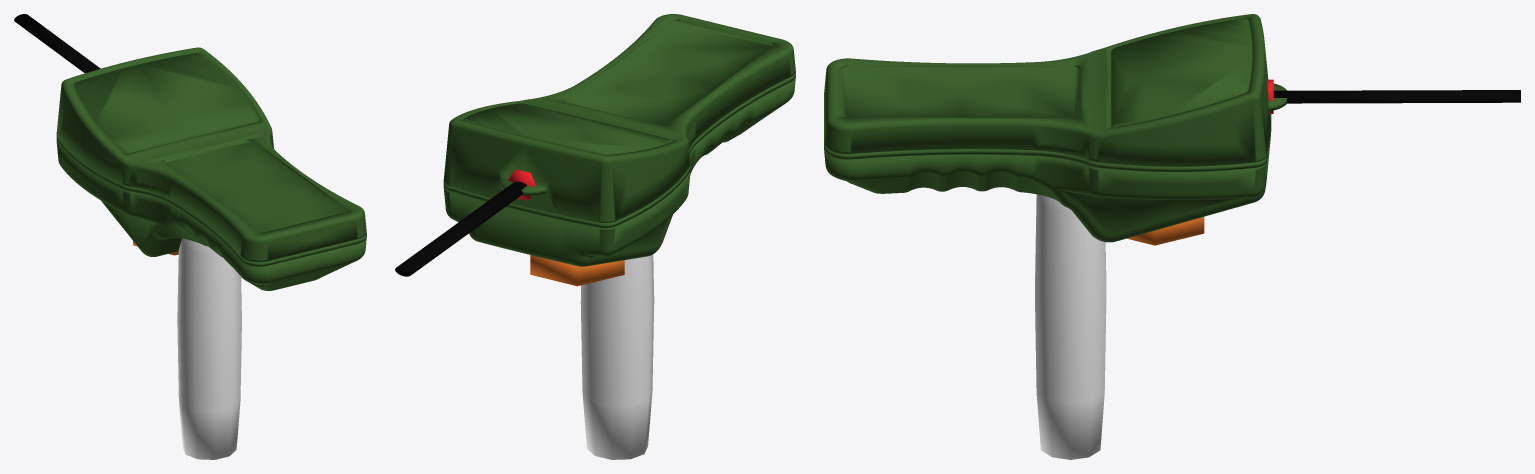
Rendered from soldadora.fbx.
3 renders of one model, left to right at view 1: azimuth 30°, elevation 25°; view 2: azimuth 150°, elevation 25°; view 3: azimuth 270°, elevation 25°, orthographic. The views are drawn at different scales.
Visible parts, largest first — view 1: meshes[0], meshes[6].001, meshes[6]; view 2: meshes[0], meshes[6].001, meshes[6], meshes[4]; view 3: meshes[0], meshes[6].001, meshes[6], meshes[4].
Boxes of the visible parts, x1,y1,x2,y2 form: meshes[0]: (56, 47, 366, 290); meshes[6].001: (177, 238, 241, 459); meshes[6]: (14, 14, 100, 73); meshes[0]: (443, 14, 795, 266); meshes[6].001: (580, 254, 654, 459); meshes[6]: (395, 169, 535, 276); meshes[4]: (530, 255, 624, 286); meshes[0]: (824, 14, 1287, 242); meshes[6].001: (1035, 194, 1106, 459); meshes[6]: (1268, 79, 1520, 113); meshes[4]: (1127, 217, 1204, 245).
Bounding box in the file's own units: 0.1149 × 0.2187 × 0.3505.
